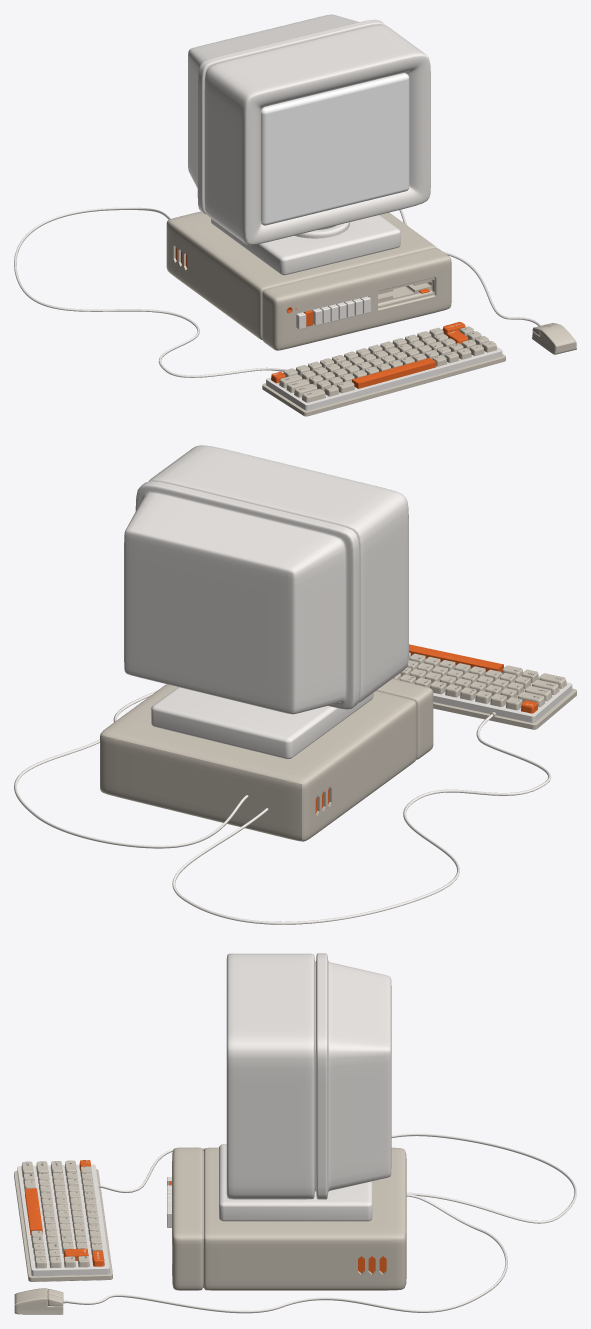
Rendered from cute_computer_follow_cursor.glb.
3 renders of one model, top to bottom at view 1: azimuth 30°, elevation 25°; view 2: azimuth 150°, elevation 25°; view 3: azimuth 270°, elevation 25°, orthographic. The views are drawn at different scales.
Visible parts, largest first — view 1: Cube (×2), Desktop-Computer, Screen, Boolean, Rectangle 4 (×2), Path, mouse, Computer; view 2: Cube (×2), Desktop-Computer, Boolean, Path, Rectangle 4 (×2), Path 2; view 3: Cube (×2), Desktop-Computer, Boolean, Rectangle 4 (×2), Path 2, Path, mouse.
Part boxes in pixels (<box>): Cube (×2): <box>188,14,436,388</box>; Desktop-Computer: <box>166,211,451,350</box>; Screen: <box>261,73,409,225</box>; Boolean: <box>211,215,400,275</box>; Rectangle 4 (×2): <box>262,346,505,416</box>; Path: <box>14,207,286,377</box>; mouse: <box>532,323,576,354</box>; Computer: <box>320,296,370,323</box>; Cube (×2): <box>124,445,503,714</box>; Desktop-Computer: <box>100,678,433,841</box>; Boolean: <box>151,687,373,759</box>; Path: <box>172,714,551,924</box>; Rectangle 4 (×2): <box>433,672,576,729</box>; Path 2: <box>14,691,248,848</box>; Cube (×2): <box>25,953,391,1235</box>; Desktop-Computer: <box>172,1147,406,1290</box>; Boolean: <box>219,1144,372,1221</box>; Rectangle 4 (×2): <box>14,1164,112,1281</box>; Path 2: <box>65,1194,507,1313</box>; Path: <box>100,1133,576,1223</box>; mouse: <box>14,1288,63,1314</box>.
Size of the model in its own units: 10.67 by 6.7 by 13.63.
